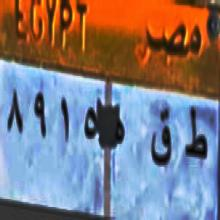1: (59, 94, 72, 152)
5: (82, 101, 98, 152)
8: (4, 84, 23, 144)
9: (32, 86, 47, 144)
Taa: (184, 104, 210, 170)
haa: (115, 111, 125, 150)
qaaf: (149, 101, 172, 176)
